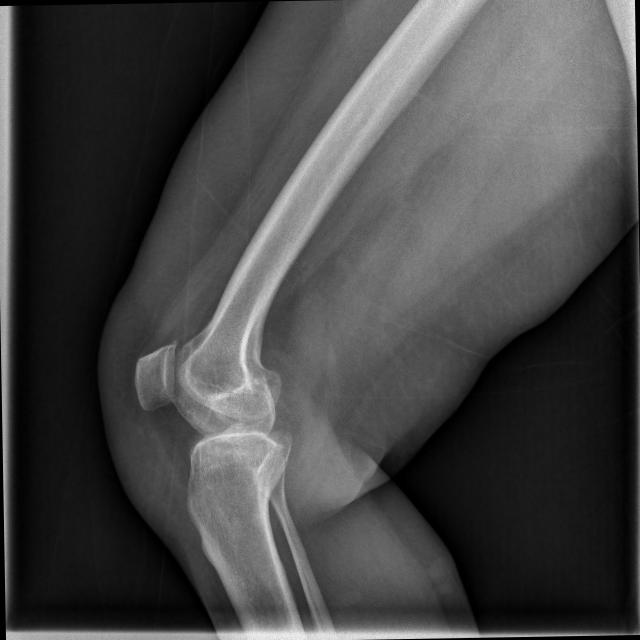Knee: (133, 332, 295, 502)
